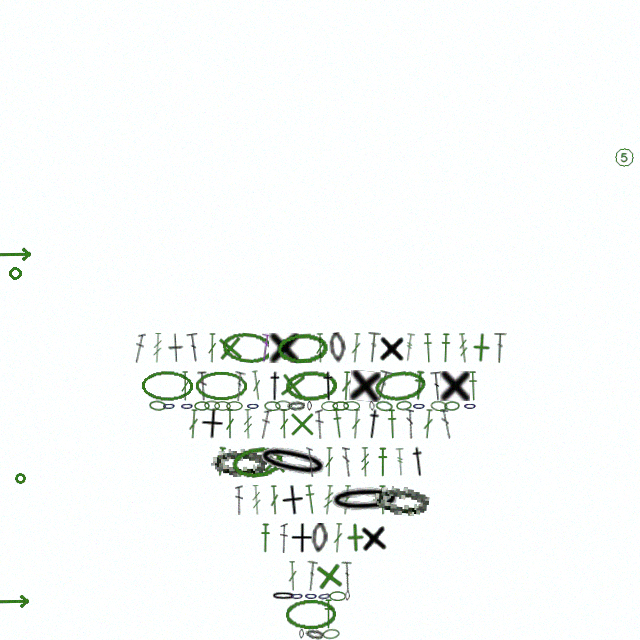chain: (253, 440, 332, 484), (327, 484, 403, 516), (373, 368, 428, 404), (372, 483, 430, 517), (230, 444, 284, 480), (221, 330, 275, 365), (211, 447, 267, 477), (276, 332, 328, 364), (141, 370, 193, 401), (285, 370, 337, 401), (285, 599, 337, 629), (195, 371, 247, 401), (328, 332, 347, 363), (311, 523, 328, 553), (271, 591, 296, 601), (305, 628, 324, 640), (322, 628, 340, 640), (375, 400, 393, 412), (430, 400, 448, 412), (287, 400, 305, 411), (149, 400, 166, 411), (275, 400, 292, 411), (317, 590, 332, 602), (204, 400, 220, 411), (396, 400, 412, 411), (329, 591, 346, 601), (214, 401, 231, 411), (226, 401, 243, 411), (264, 401, 281, 411), (321, 401, 338, 411), (332, 401, 349, 411), (343, 401, 360, 411), (194, 401, 210, 411), (444, 401, 460, 411), (290, 591, 304, 601), (304, 591, 318, 601), (162, 401, 176, 411), (180, 401, 194, 411), (246, 401, 260, 411), (412, 401, 426, 411), (463, 401, 477, 411), (369, 401, 375, 411), (299, 629, 304, 639), (345, 591, 350, 601), (307, 401, 312, 411)
double: (373, 370, 393, 402), (186, 332, 202, 363), (366, 332, 381, 363), (304, 560, 318, 591), (232, 371, 246, 401), (430, 371, 444, 401), (493, 333, 507, 363), (250, 370, 263, 401), (259, 332, 272, 363), (340, 485, 353, 515), (259, 409, 272, 439), (133, 333, 146, 363), (332, 523, 344, 553), (350, 409, 362, 439), (422, 409, 434, 439), (440, 409, 452, 439), (197, 371, 209, 401), (350, 333, 362, 363), (287, 561, 298, 591), (341, 561, 352, 591), (269, 485, 280, 515), (188, 409, 199, 439), (341, 371, 352, 401), (324, 447, 334, 477), (225, 409, 235, 439), (279, 409, 289, 439), (180, 371, 190, 401), (207, 333, 217, 363), (315, 333, 325, 363), (306, 447, 315, 477), (342, 447, 351, 477), (315, 409, 324, 439), (280, 523, 288, 553), (235, 485, 243, 515), (406, 409, 414, 439)
half_double: (363, 408, 384, 440), (409, 446, 428, 477), (266, 371, 284, 401), (320, 371, 337, 401), (303, 484, 318, 515), (214, 446, 228, 477), (331, 408, 345, 439), (412, 370, 426, 401), (386, 409, 398, 439), (467, 371, 479, 401), (422, 333, 434, 363), (323, 599, 334, 629), (260, 523, 271, 553), (377, 485, 388, 515), (377, 447, 388, 477), (440, 333, 451, 363)
noise: (0, 246, 33, 262), (613, 146, 635, 168), (0, 595, 31, 608), (8, 266, 23, 281), (14, 472, 26, 484)
single: (312, 559, 346, 593), (276, 369, 309, 402), (349, 370, 381, 402), (214, 332, 246, 364), (340, 522, 371, 553), (259, 446, 290, 477), (466, 332, 497, 363), (359, 522, 389, 553), (287, 409, 317, 439), (440, 371, 470, 401), (269, 333, 299, 363), (378, 333, 406, 363), (280, 484, 305, 516), (200, 408, 224, 439), (290, 523, 313, 553), (168, 333, 184, 363)
treble: (403, 332, 416, 363), (322, 485, 335, 515), (457, 333, 470, 363), (251, 485, 262, 515), (395, 447, 406, 477), (152, 333, 163, 363), (360, 447, 370, 477), (243, 409, 253, 439)
